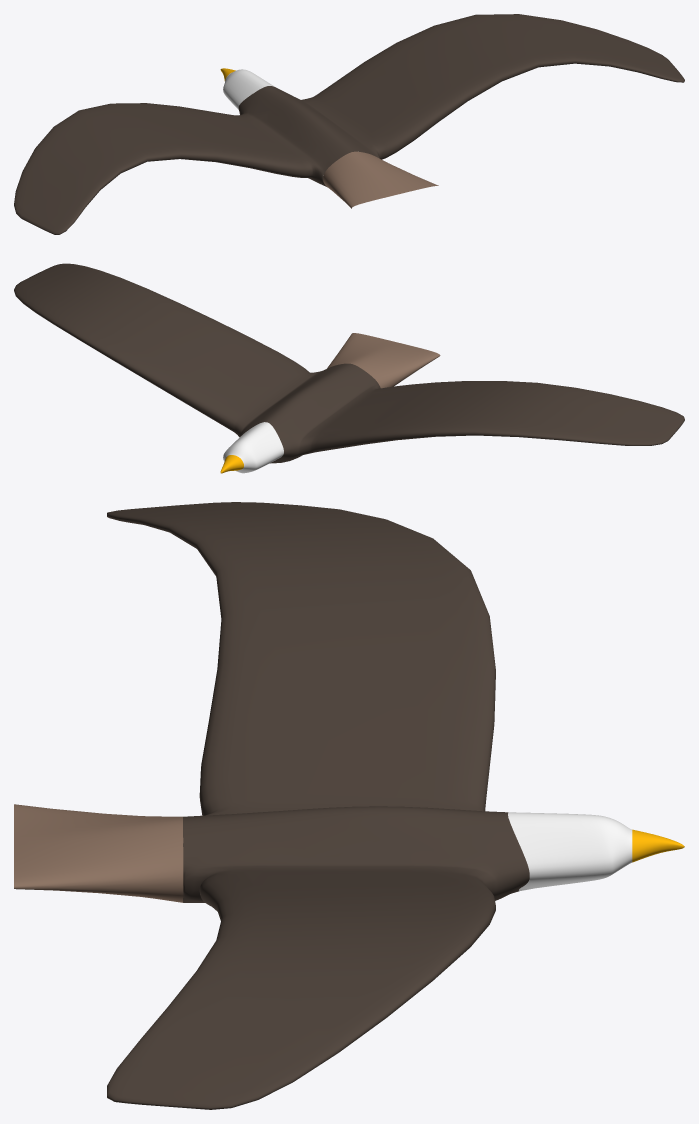
3 renders of one model, top to bottom at view 1: azimuth 30°, elevation 25°; view 2: azimuth 150°, elevation 25°; view 3: azimuth 270°, elevation 25°, orthographic. The views are drawn at different scales.
Parts seen in each view (by area): view 1: Cylinder001; view 2: Cylinder001; view 3: Cylinder001.
Boxes of the visible parts, box(x1,y1,x2,y2) form: Cylinder001: box(14, 14, 684, 234); Cylinder001: box(14, 263, 684, 473); Cylinder001: box(14, 502, 684, 1109).
Bounding box in the file's own units: 260 × 32.13 × 122.
